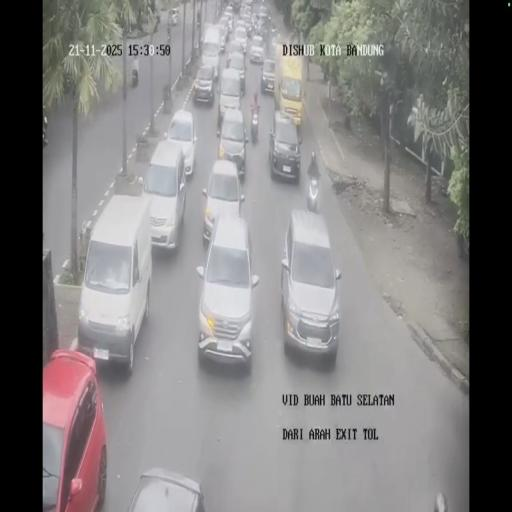car: (42, 348, 108, 510), (196, 211, 258, 368), (281, 207, 341, 360), (268, 110, 302, 182), (214, 108, 248, 180), (164, 108, 198, 177), (192, 62, 216, 105), (224, 49, 246, 93), (260, 57, 276, 94), (250, 36, 264, 64), (233, 24, 247, 50), (218, 18, 230, 46), (240, 11, 252, 32), (254, 18, 266, 37), (168, 7, 178, 25), (226, 2, 233, 14)
motorcycle: (250, 112, 258, 143), (166, 29, 171, 44)
truck: (200, 25, 222, 74)
